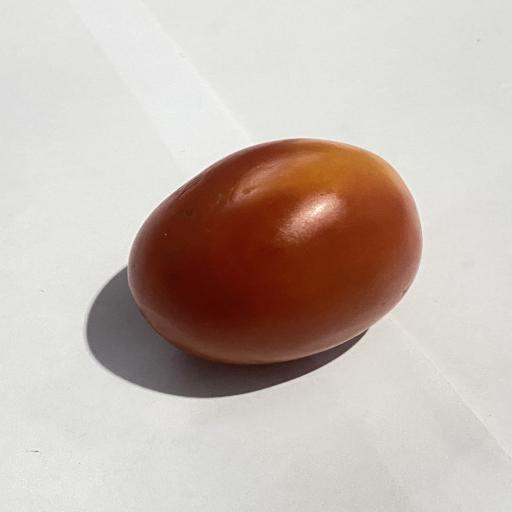ripe: (128, 139, 421, 364)
